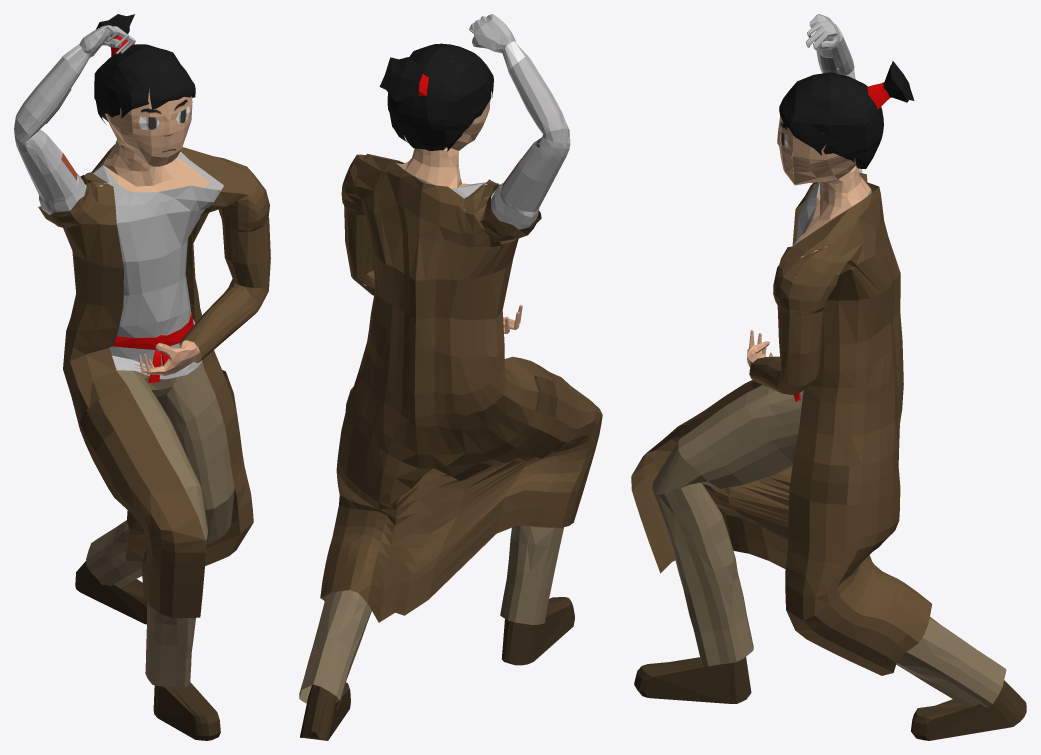
File: Special_Attack_000020.obj
3 renders of one model, left to right at view 1: azimuth 30°, elevation 25°; view 2: azimuth 150°, elevation 25°; view 3: azimuth 270°, elevation 25°, orthographic. The views are drawn at different scales.
Parts seen in each view (by area): view 1: Hair_Cube.004; view 2: Hair_Cube.004; view 3: Hair_Cube.004.
Boxes of the visible parts, box(x1,y1,x2,y2) form: Hair_Cube.004: box(14, 14, 270, 740); Hair_Cube.004: box(299, 14, 602, 740); Hair_Cube.004: box(631, 14, 1026, 740).
Bounding box in the file's own units: 1.33 × 3.62 × 1.92.
